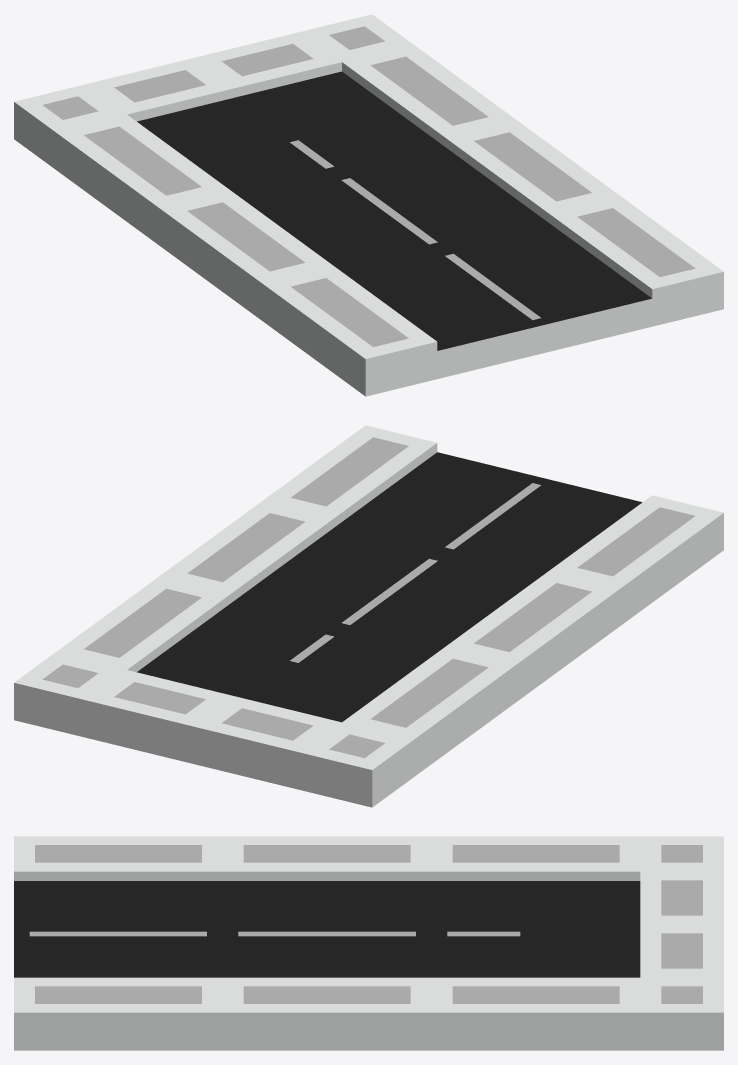
File: cuoi duong.fbx
3 views of the same model, one above another, from view 1: azimuth 30°, elevation 25°; view 2: azimuth 150°, elevation 25°; view 3: azimuth 270°, elevation 25° (orthographic).
Visible parts, largest first — view 1: cuoi_duong; view 2: cuoi_duong; view 3: cuoi_duong.
Part boxes in pixels (left/top/right/bottom): cuoi_duong: left=14, top=14, right=723, bottom=396; cuoi_duong: left=14, top=425, right=723, bottom=807; cuoi_duong: left=14, top=836, right=723, bottom=1050.
Bounding box in the file's own units: 20 × 2 × 34.
Materials: 1 (1 with a texture image).
